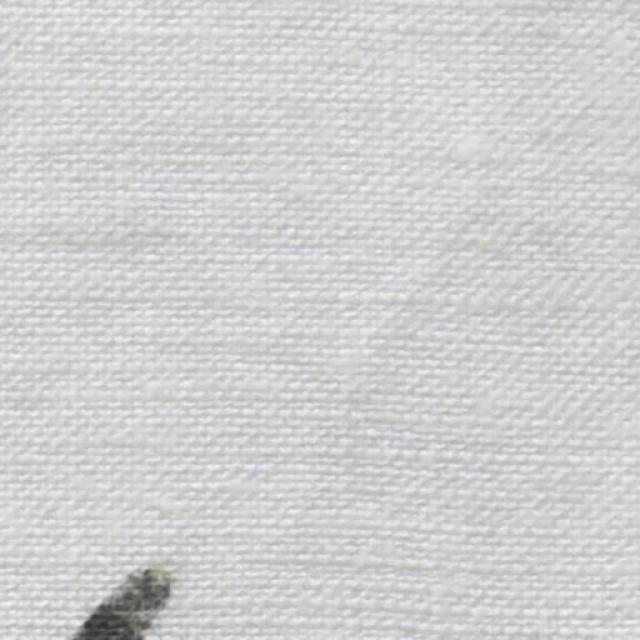Stain: (74, 570, 170, 639)
